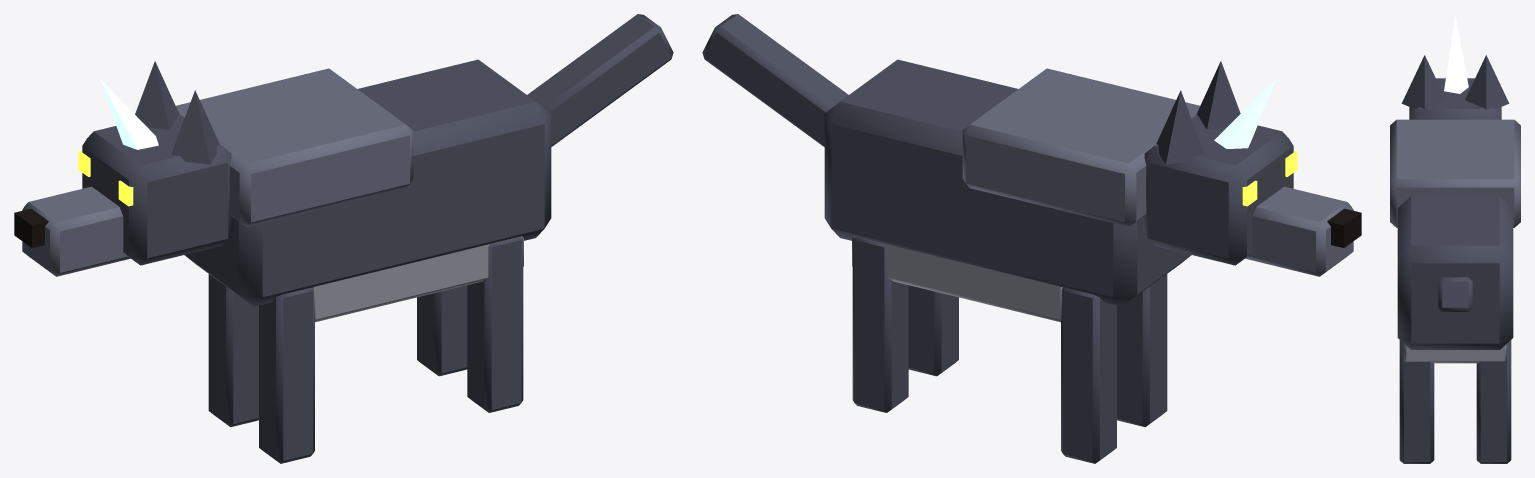
The model's file is wolf.glb.
The picture shows the model from 3 angles, left to right: view 1: azimuth 30°, elevation 25°; view 2: azimuth 150°, elevation 25°; view 3: azimuth 270°, elevation 25°; orthographic projection. The views are drawn at different scales.
Visible parts, largest first — view 1: body, head, legFL, legBL, tail, legFR, legBR, horn; view 2: body, head, legFR, legBR, tail, legFL, legBL, horn; view 3: body, head, legBL, legBR, tail, horn.
Boxes of the visible parts, x1,y1,x2,y2 form: body: (176,59,551,322); head: (14,61,233,276); legFL: (259,287,314,463); legBL: (467,237,523,412); tail: (527,14,673,146); legFR: (208,274,258,427); legBR: (417,285,467,376); horn: (99,78,158,149); body: (824,59,1199,322); head: (1142,61,1361,276); legFR: (1061,287,1116,463); legBR: (852,237,908,412); tail: (702,14,848,146); legFL: (1117,274,1167,427); legBL: (908,285,958,376); horn: (1214,78,1276,148); body: (1390,119,1520,363); head: (1401,55,1509,119); legBL: (1399,340,1434,463); legBR: (1476,340,1511,463); tail: (1438,277,1472,311); horn: (1444,14,1468,93).
Bounding box in the file's own units: 1.48 × 0.8753 × 0.34.
